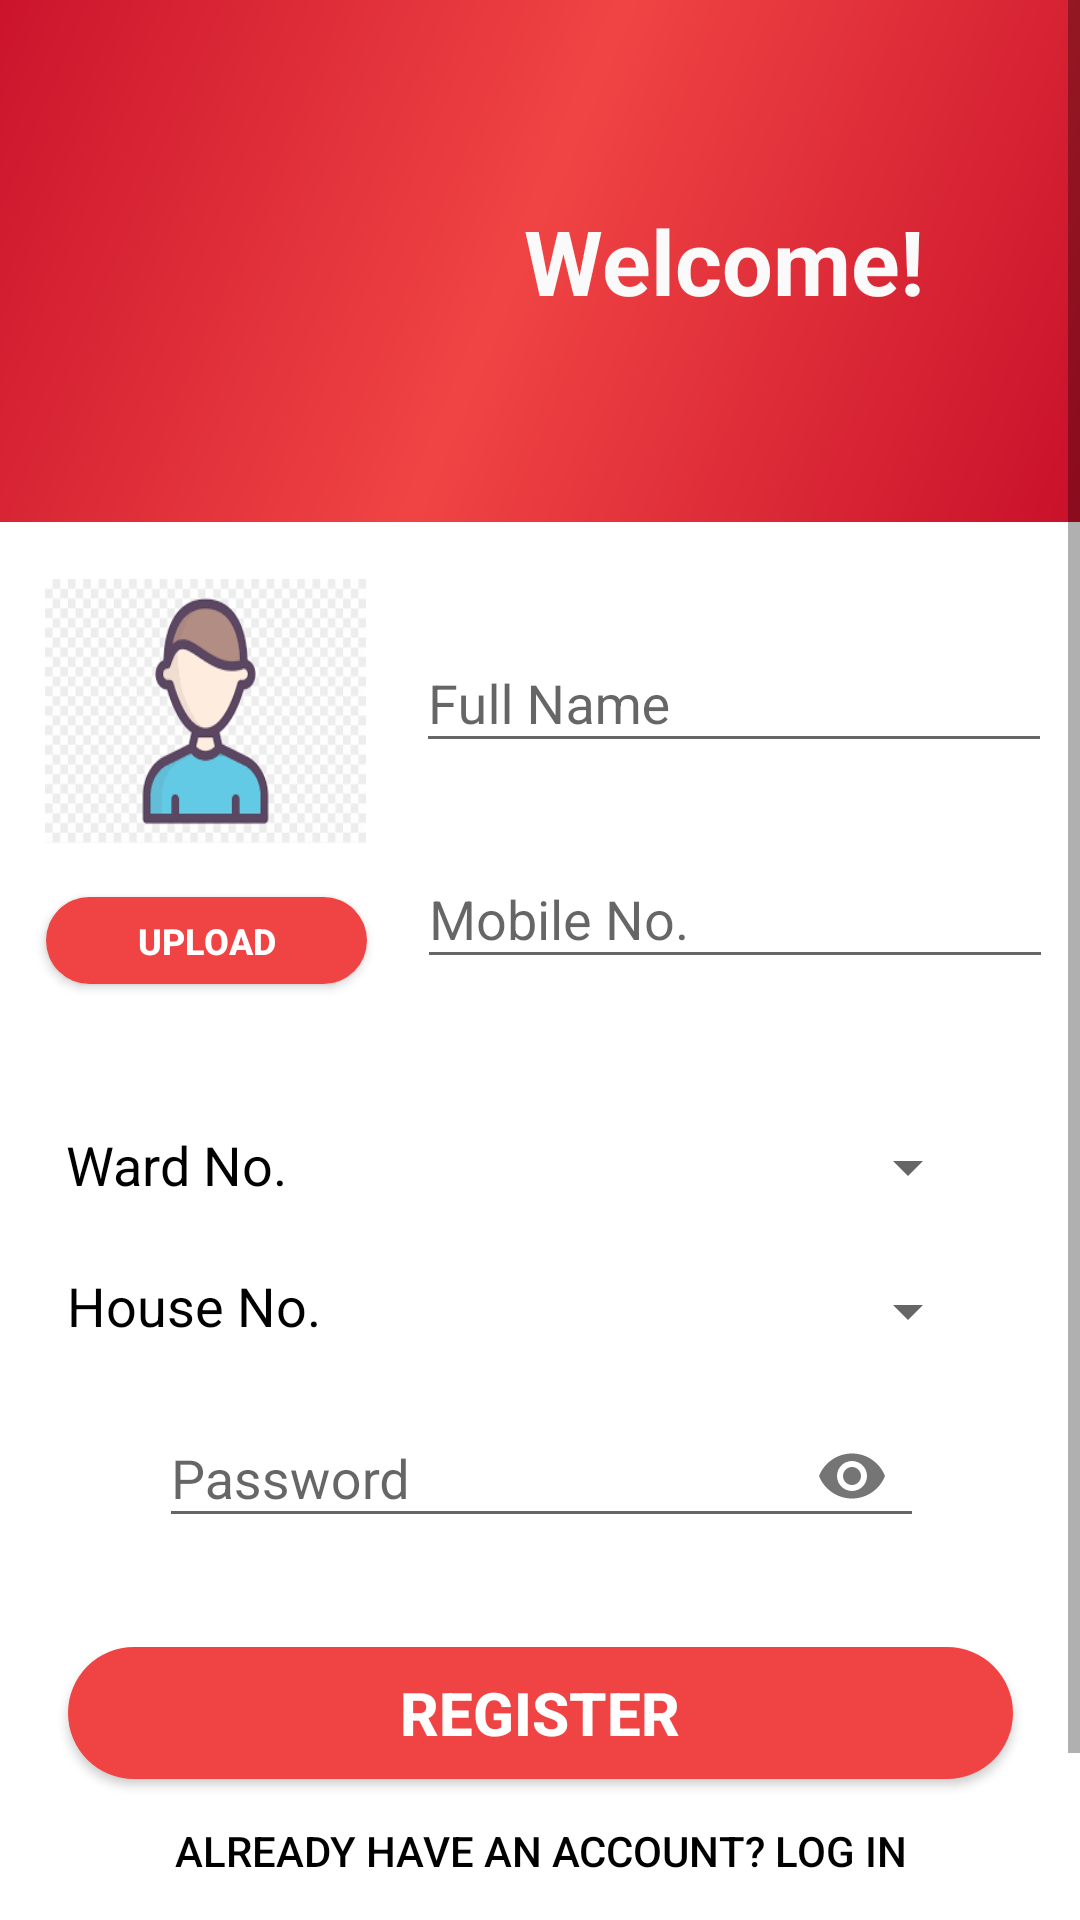

Where icons sit on this 1080 x 1920 app screen, as (x1, y1, x2, y2):
propic: (142, 598, 269, 824)
